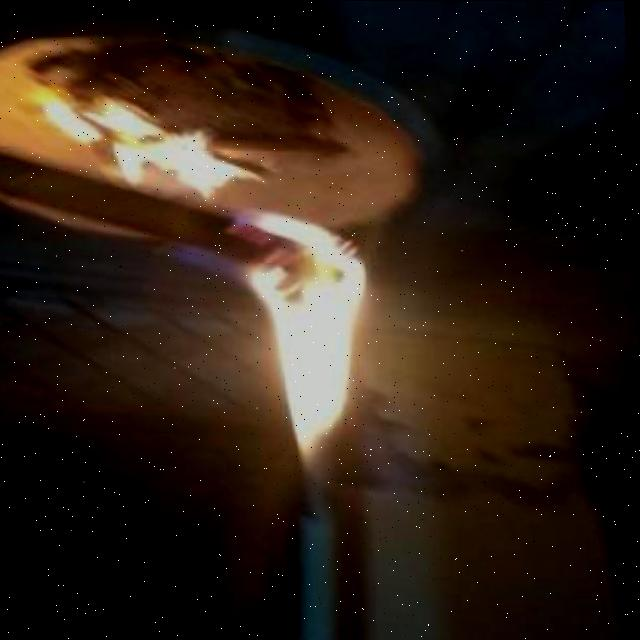fire: (230, 207, 401, 465), (53, 89, 263, 199)
